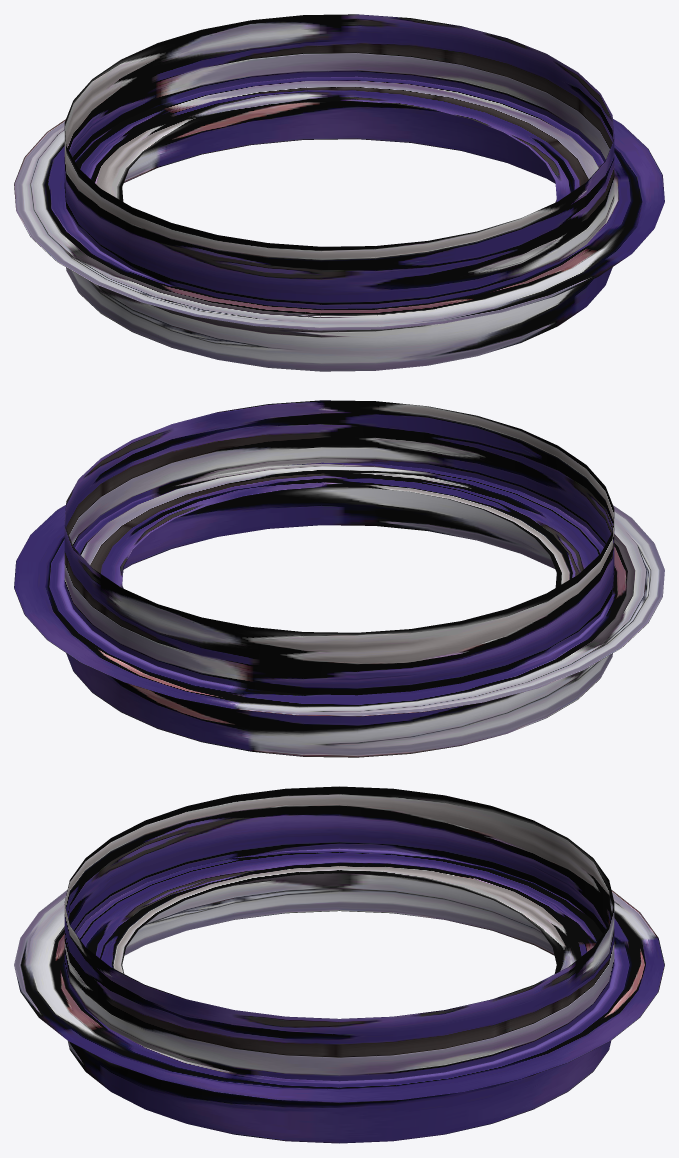
The model's file is 0030_HT_FX_ALuoLaGaLaGaLa_2222222.glb.
3 views of the same model, one above another, from view 1: azimuth 30°, elevation 25°; view 2: azimuth 150°, elevation 25°; view 3: azimuth 270°, elevation 25° (orthographic).
Bounding box in the file's own units: 2.2 × 0.4646 × 2.2.
1 material, 1 textured.
